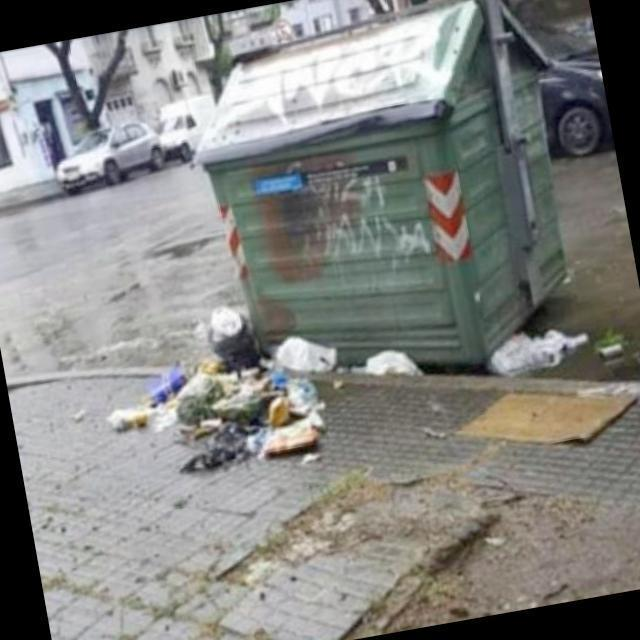garbage: (100, 220, 628, 524)
